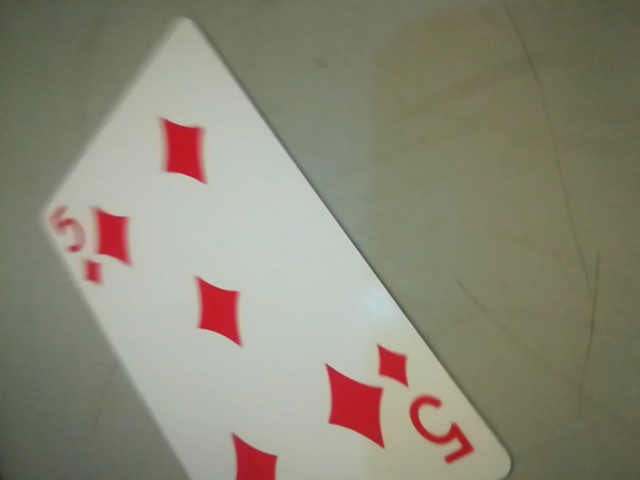fk 5: (372, 332, 486, 470)
